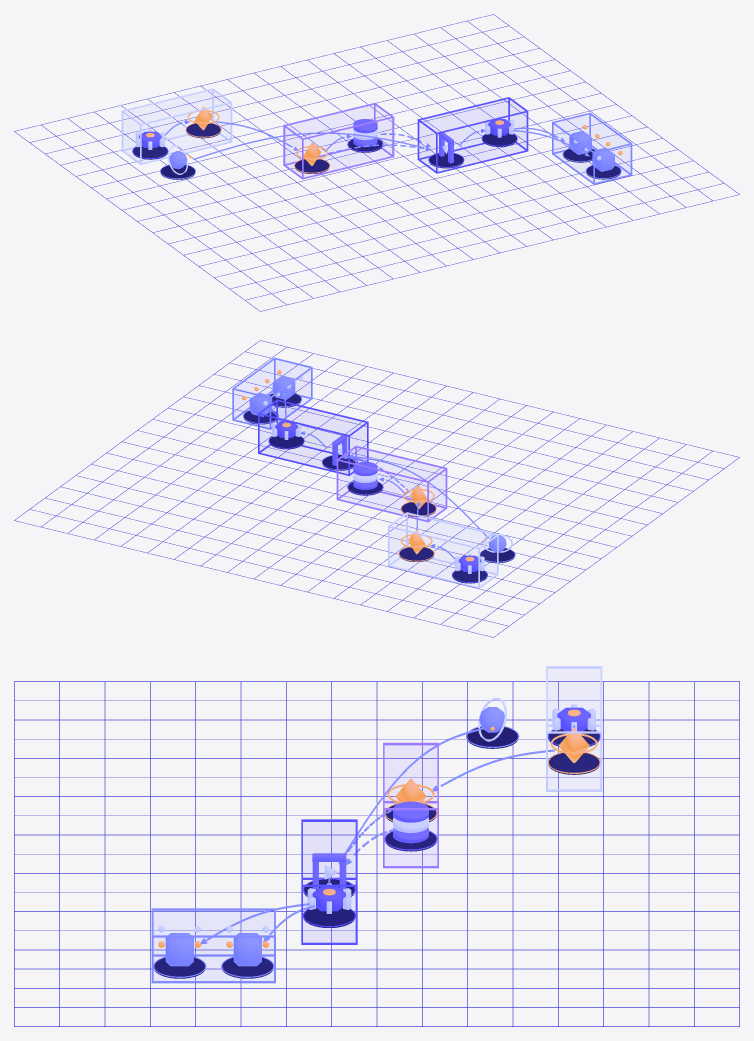
File: kong.glb
3 renders of one model, top to bottom at view 1: azimuth 30°, elevation 25°; view 2: azimuth 150°, elevation 25°; view 3: azimuth 270°, elevation 25°, orthographic. The views are drawn at different scales.
Parts seen in each view (by area): view 1: floor, group_Data_plane, group_Control_plane, group_Config_as_code, group_Upstreams; view 2: floor, group_Control_plane, group_Config_as_code, group_Data_plane, group_Upstreams; view 3: floor, group_Upstreams, group_Data_plane, group_Config_as_code, group_Control_plane, mesh_upstream_a_core, mesh_upstream_b_core, mesh_deck_pad, mesh_plugins_pad, mesh_client_pad, mesh_upstream_a_pad, mesh_upstream_b_pad (+1 smaller).
Part boxes in pixels (<box>): floor: <box>14,14,739,311</box>; group_Data_plane: <box>417,97,528,173</box>; group_Control_plane: <box>283,103,394,179</box>; group_Config_as_code: <box>121,88,232,164</box>; group_Upstreams: <box>552,112,632,184</box>; floor: <box>14,340,739,637</box>; group_Control_plane: <box>336,445,447,522</box>; group_Config_as_code: <box>388,512,498,588</box>; group_Data_plane: <box>258,399,368,475</box>; group_Upstreams: <box>232,357,312,429</box>; floor: <box>14,681,739,1026</box>; group_Upstreams: <box>151,908,275,983</box>; group_Data_plane: <box>301,819,357,944</box>; group_Config_as_code: <box>546,666,602,791</box>; group_Control_plane: <box>383,742,438,868</box>; mesh_upstream_a_core: <box>233,933,261,966</box>; mesh_upstream_b_core: <box>165,933,193,966</box>; mesh_deck_pad: <box>549,753,599,774</box>; mesh_plugins_pad: <box>304,907,354,927</box>; mesh_client_pad: <box>467,727,517,748</box>; mesh_upstream_a_pad: <box>222,957,272,978</box>; mesh_upstream_b_pad: <box>154,957,204,978</box>.
Size of the model in its own units: 36.03 by 2.91 by 32.03.
